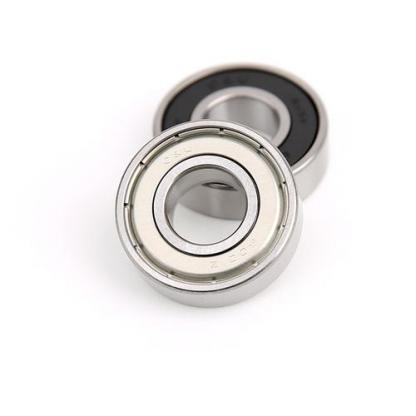FOD: (111, 119, 302, 306), (149, 54, 336, 222)
